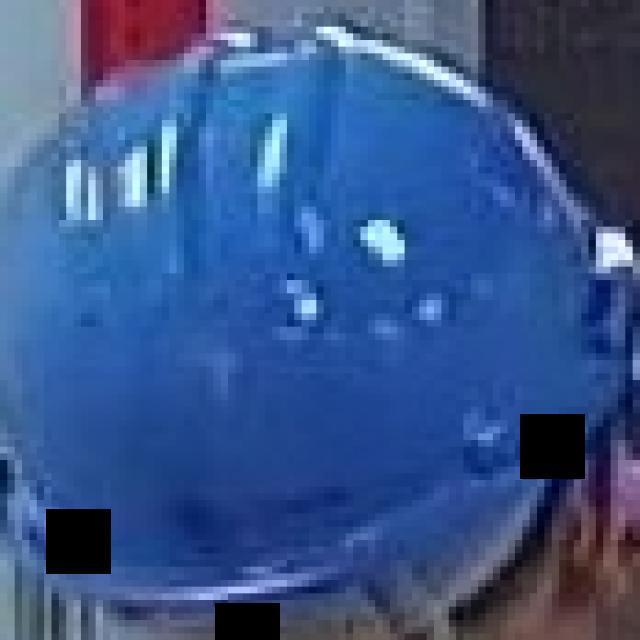blue helmet: (2, 35, 640, 594)
